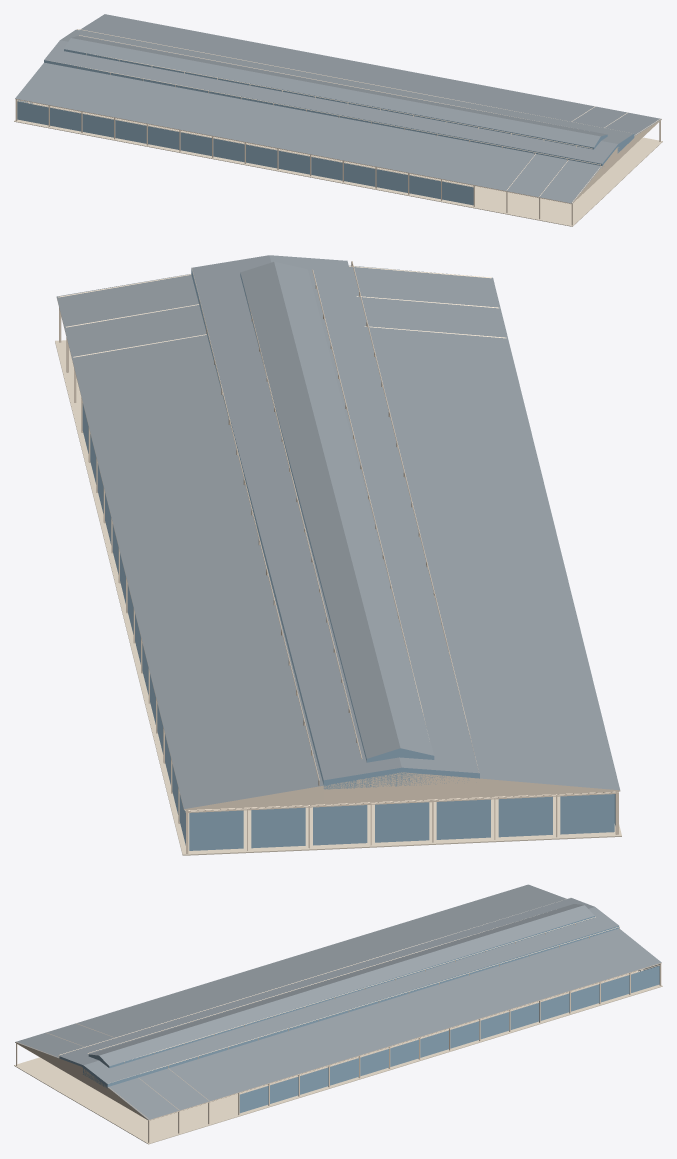
3 renders of one model, top to bottom at view 1: azimuth 30°, elevation 25°; view 2: azimuth 150°, elevation 25°; view 3: azimuth 270°, elevation 25°, orthographic. The views are drawn at different scales.
Visible parts, largest first — view 1: roof, glass, stone, trim; view 2: roof, glass, trim, stone; view 3: roof, glass, stone, trim.
Boxes of the visible parts, left/top/right/bottom form: roof: left=15, top=14, right=661, bottom=203; glass: left=17, top=49, right=634, bottom=205; stone: left=14, top=103, right=662, bottom=226; trim: left=15, top=29, right=661, bottom=225; roof: left=56, top=255, right=619, bottom=808; glass: left=82, top=269, right=615, bottom=850; trim: left=56, top=261, right=620, bottom=853; stone: left=55, top=340, right=621, bottom=855; roof: left=15, top=884, right=661, bottom=1119; glass: left=59, top=916, right=659, bottom=1113; stone: left=14, top=971, right=662, bottom=1144; trim: left=15, top=913, right=661, bottom=1142.
Size of the model in its own units: 213 by 19 by 246.
